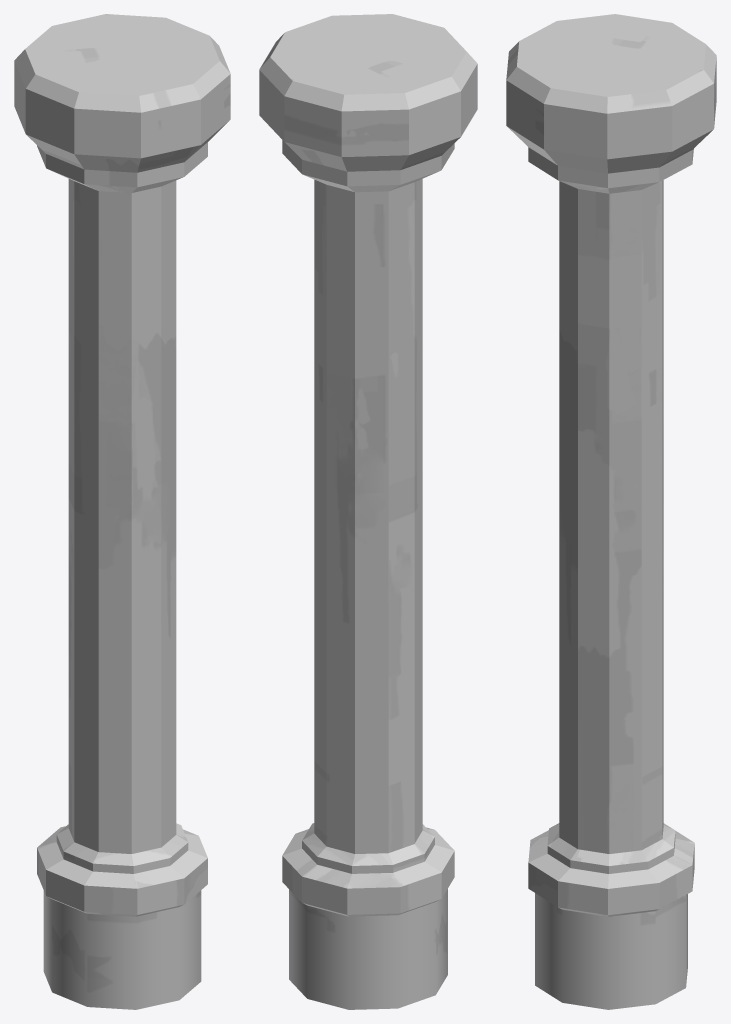
The model's file is CellingFramePillar_A_001.FBX.
3 views of the same model, side by side, from view 1: azimuth 30°, elevation 25°; view 2: azimuth 150°, elevation 25°; view 3: azimuth 270°, elevation 25° (orthographic).
Visible parts, largest first — view 1: CellingFramePillar_A_001; view 2: CellingFramePillar_A_001; view 3: CellingFramePillar_A_001.
Part boxes in pixels (x1,y1,x2,y2): CellingFramePillar_A_001: [14, 14, 230, 1009]; CellingFramePillar_A_001: [259, 14, 477, 1009]; CellingFramePillar_A_001: [506, 14, 716, 1009].
Size of the model in its own units: 105 by 101 by 488.
